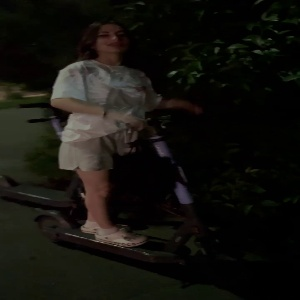human on a scooter: (28, 10, 248, 286)
